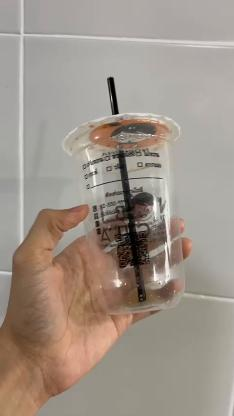Plastic Cup: (63, 115, 186, 316)
